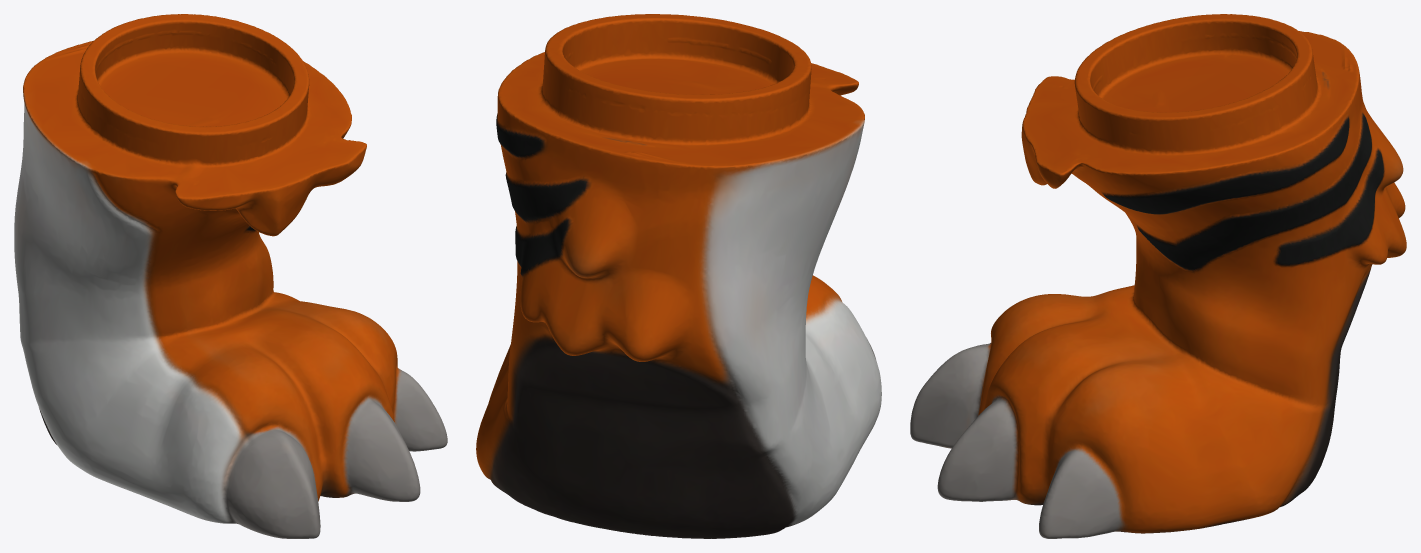
Rendered from Patte_Tigre_lft.glb.
3 views of the same model, side by side, from view 1: azimuth 30°, elevation 25°; view 2: azimuth 150°, elevation 25°; view 3: azimuth 270°, elevation 25° (orthographic). The views are drawn at different scales.
Visible parts, largest first — view 1: Patte_Tigre_lft; view 2: Patte_Tigre_lft; view 3: Patte_Tigre_lft.
Boxes of the visible parts, x1,y1,x2,y2 form: Patte_Tigre_lft: (14,14,447,538); Patte_Tigre_lft: (476,14,881,538); Patte_Tigre_lft: (910,14,1406,538).
Bounding box in the file's own units: 2.03 × 2.26 × 2.56.
